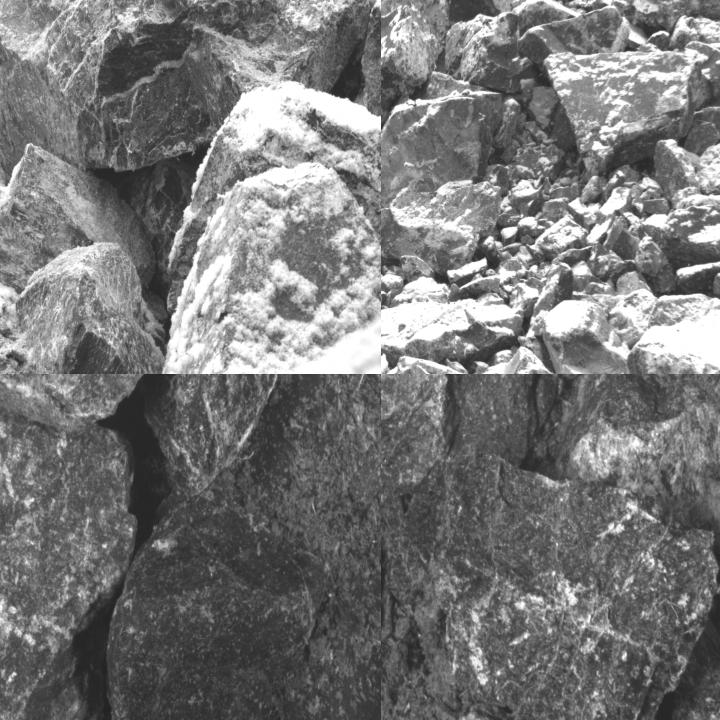stone: (382, 447, 719, 719), (0, 0, 370, 173), (105, 486, 329, 719), (154, 162, 380, 373), (0, 374, 138, 719), (536, 374, 719, 561), (541, 50, 715, 176), (15, 241, 167, 373), (381, 93, 502, 238), (160, 374, 319, 478), (381, 374, 467, 542), (381, 178, 497, 270), (381, 294, 524, 364), (605, 293, 719, 373), (381, 11, 442, 150), (672, 551, 719, 719), (452, 374, 535, 463), (541, 299, 631, 373), (523, 7, 630, 60), (458, 12, 522, 88), (381, 0, 494, 29), (610, 0, 719, 29)
